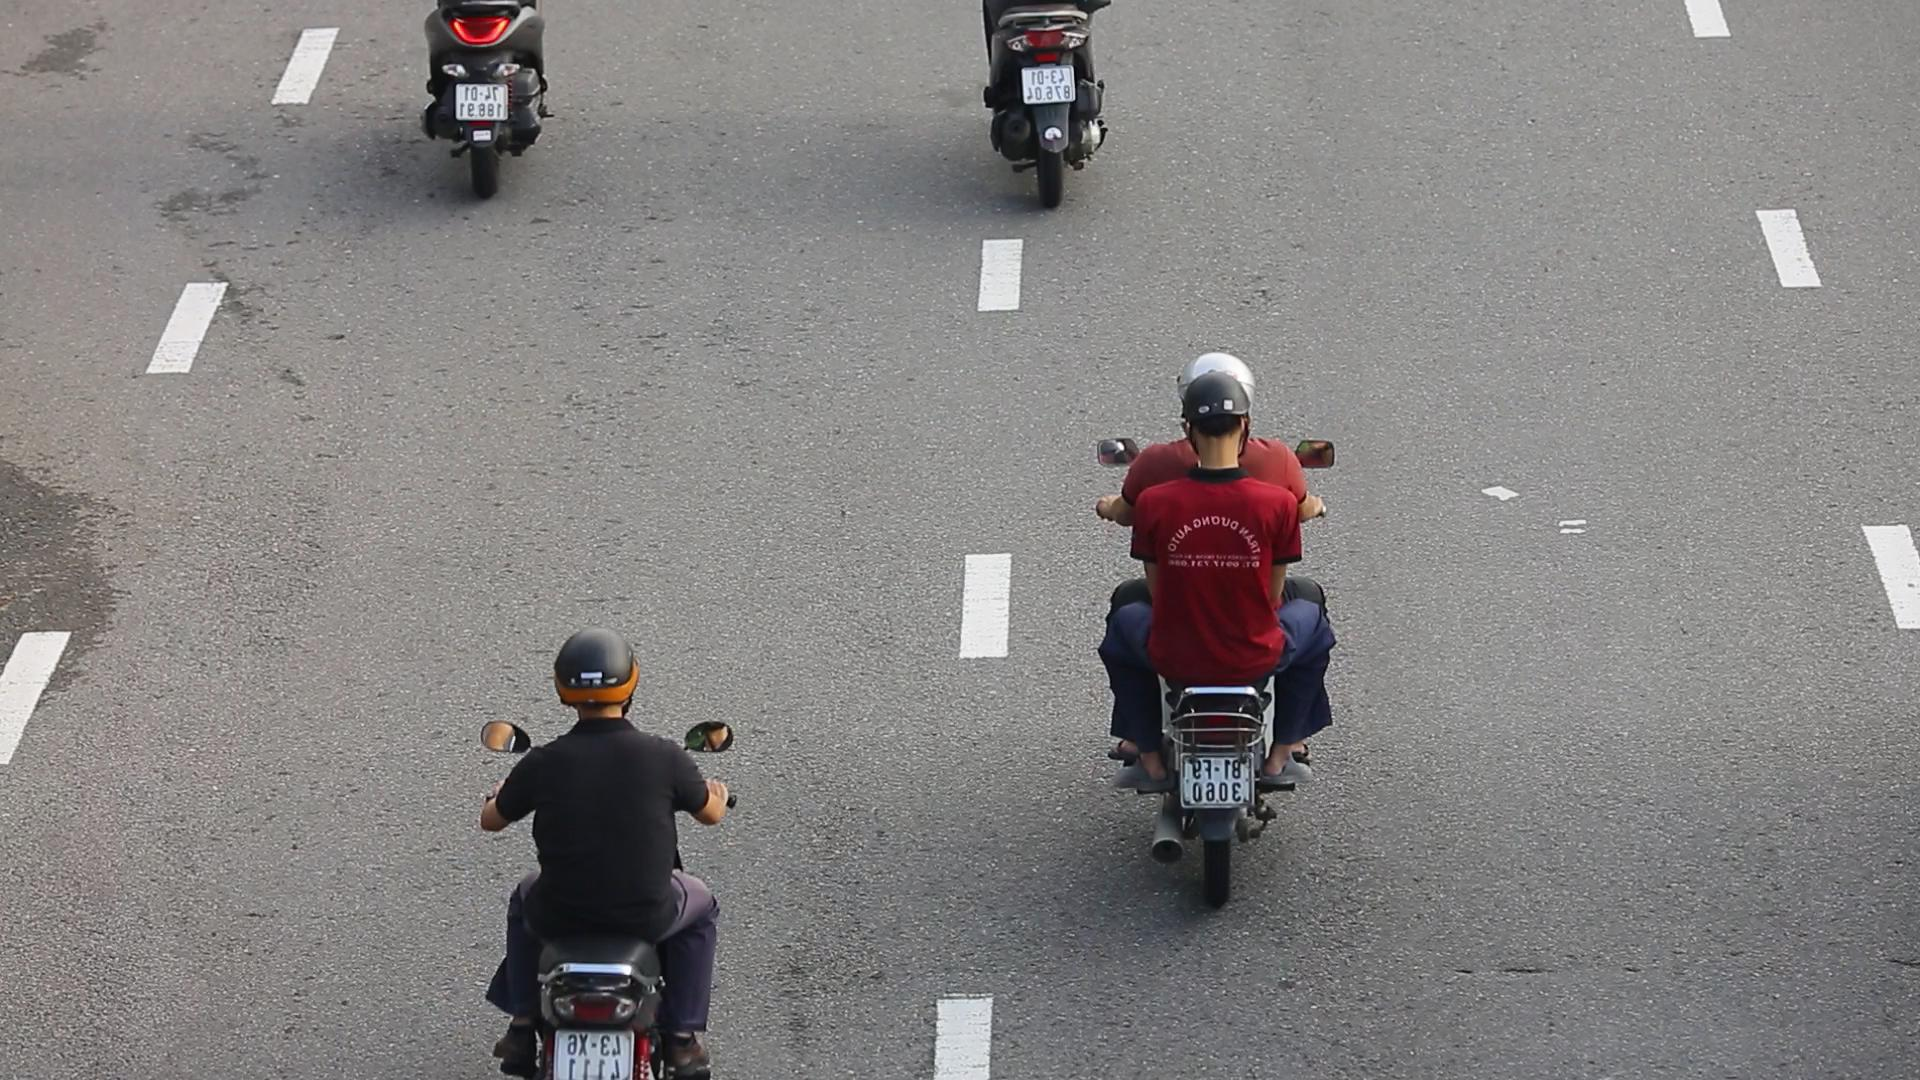motobike: (1071, 353, 1338, 920), (438, 611, 719, 1080)
